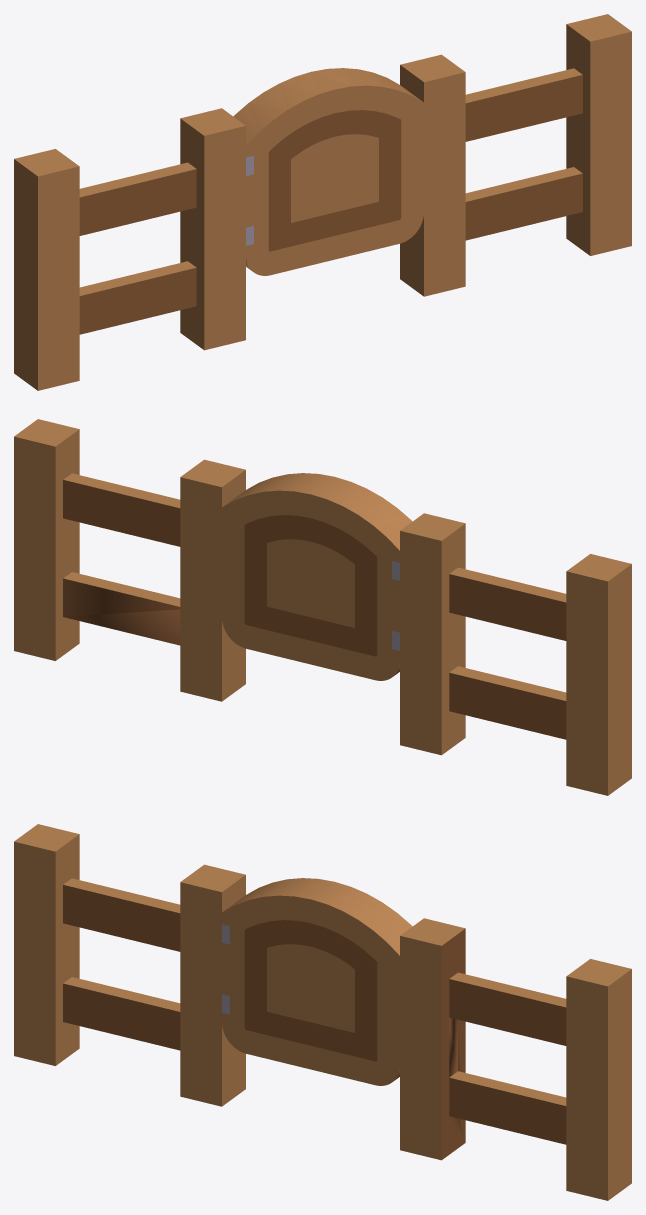
File: fence_gate.glb
The picture shows the model from 3 angles, top to bottom: view 1: azimuth 30°, elevation 25°; view 2: azimuth 150°, elevation 25°; view 3: azimuth 330°, elevation 25°; orthographic projection.
Visible parts, largest first — view 1: fence_gate; view 2: fence_gate; view 3: fence_gate.
Boxes of the visible parts, box(x1,y1,x2,y2) form: fence_gate: box(14, 14, 631, 390); fence_gate: box(14, 419, 631, 795); fence_gate: box(14, 824, 631, 1200).
Size of the model in its own units: 1.4 by 0.516 by 0.098.
